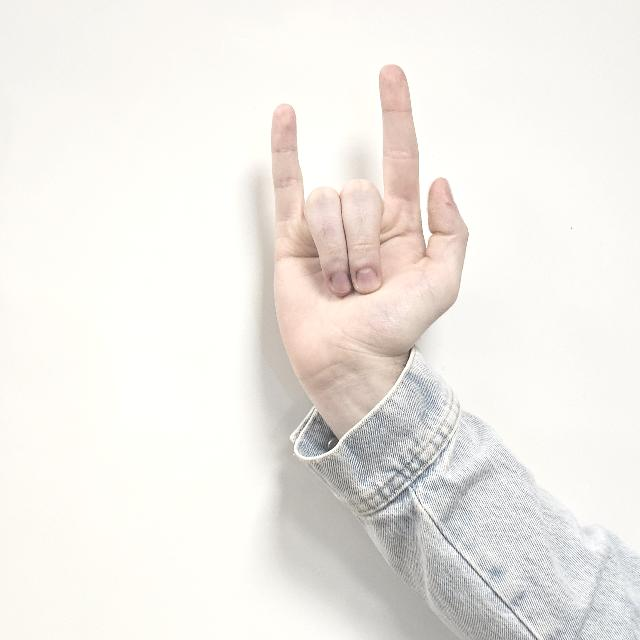L: (268, 64, 464, 376)
